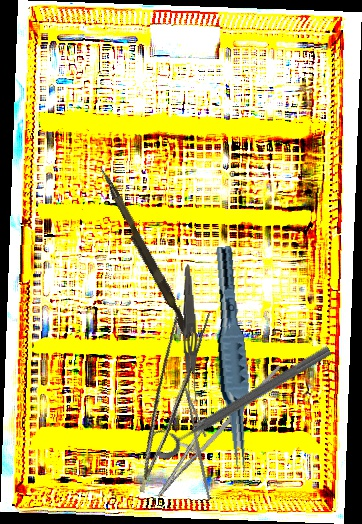Dressing Forceps: (177, 264, 201, 403)
Fixation Ring: (146, 331, 335, 463)
Needle Holder: (145, 344, 282, 511), (171, 385, 232, 500)
Pusher: (92, 165, 197, 340)
Tissue Forceps: (109, 298, 217, 494), (202, 245, 261, 473)
